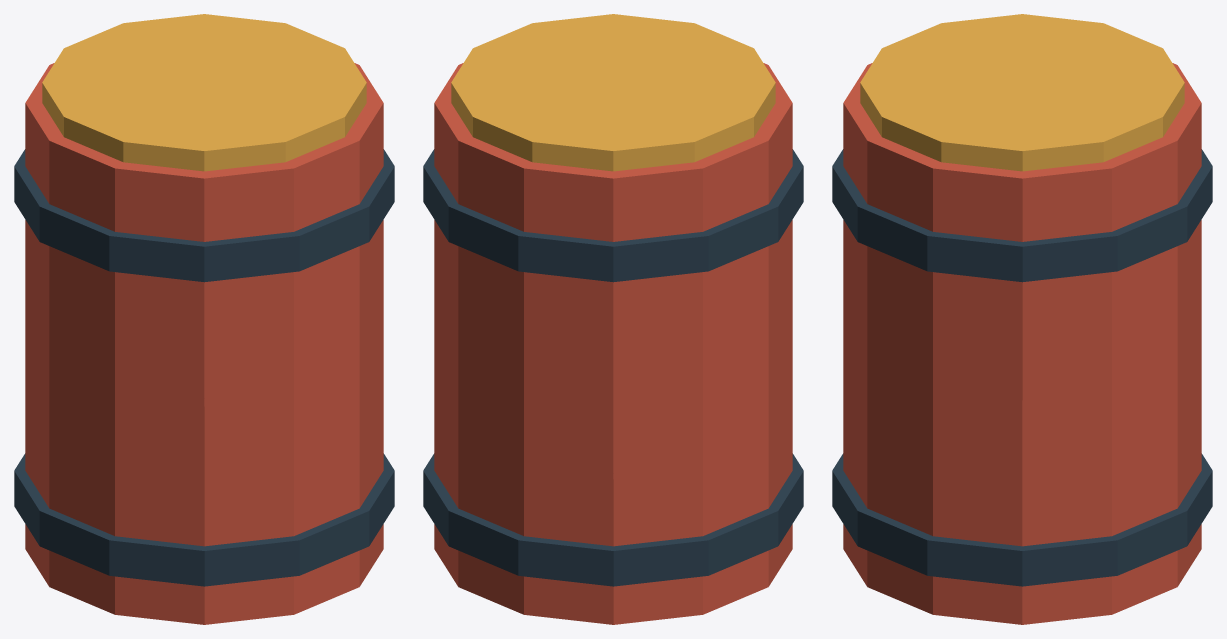
Rendered from Barrel.fbx.
3 views of the same model, side by side, from view 1: azimuth 30°, elevation 25°; view 2: azimuth 150°, elevation 25°; view 3: azimuth 270°, elevation 25° (orthographic).
Parts seen in each view (by area): view 1: Barrel_Static; view 2: Barrel_Static; view 3: Barrel_Static.
Part boxes in pixels (x1,y1,x2,y2): Barrel_Static: (14,14,394,624); Barrel_Static: (423,14,803,624); Barrel_Static: (832,14,1212,624).
Size of the model in its own units: 0.68 by 0.92 by 0.68.
Materials: 1 (1 with a texture image).
